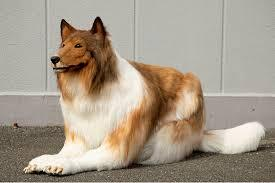anjing: (20, 17, 269, 178)
